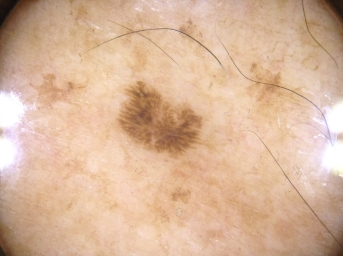seborrheic keratosis: (96, 61, 216, 167)
